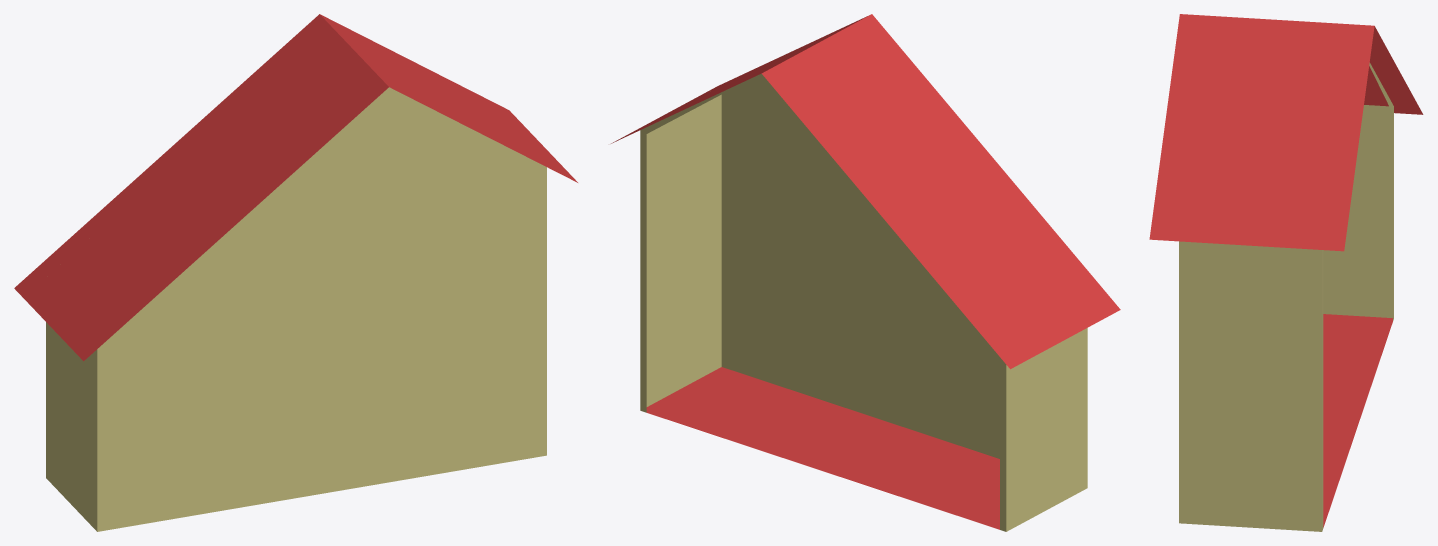
3 renders of one model, left to right at view 1: azimuth 30°, elevation 25°; view 2: azimuth 150°, elevation 25°; view 3: azimuth 270°, elevation 25°, orthographic. The views are drawn at different scales.
Bounding box in the file's own units: 16.88 × 7.91 × 13.64.
